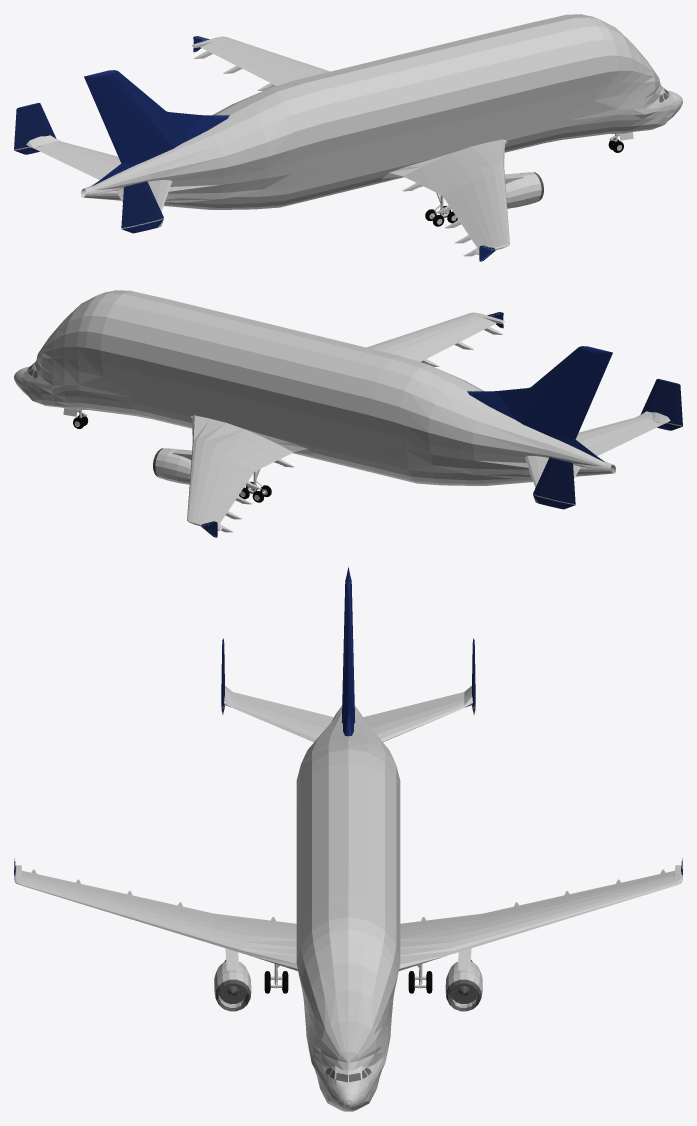
3 views of the same model, one above another, from view 1: azimuth 30°, elevation 25°; view 2: azimuth 150°, elevation 25°; view 3: azimuth 270°, elevation 25° (orthographic). The views are drawn at different scales.
Parts seen in each view (by area): view 1: mesh1_mesh1-geometry, mesh22_mesh22-geometry, mesh40_mesh40-geometry, mesh20_mesh20-geometry, mesh6_mesh6-geometry, mesh25_mesh25-geometry, mesh30_mesh30-geometry; view 2: mesh1_mesh1-geometry, mesh6_mesh6-geometry, mesh40_mesh40-geometry, mesh25_mesh25-geometry, mesh22_mesh22-geometry, mesh20_mesh20-geometry, mesh7_mesh7-geometry, mesh21_mesh21-geometry; view 3: mesh1_mesh1-geometry, mesh22_mesh22-geometry, mesh6_mesh6-geometry, mesh25_mesh25-geometry, mesh20_mesh20-geometry, mesh40_mesh40-geometry, mesh30_mesh30-geometry, mesh7_mesh7-geometry.
Boxes of the visible parts, x1,y1,x2,y2 form: mesh1_mesh1-geometry: [81, 14, 682, 209]; mesh22_mesh22-geometry: [381, 139, 509, 254]; mesh40_mesh40-geometry: [84, 70, 229, 185]; mesh20_mesh20-geometry: [14, 103, 121, 179]; mesh6_mesh6-geometry: [191, 36, 329, 85]; mesh25_mesh25-geometry: [116, 180, 171, 233]; mesh30_mesh30-geometry: [505, 172, 543, 208]; mesh1_mesh1-geometry: [14, 290, 615, 485]; mesh6_mesh6-geometry: [187, 415, 315, 530]; mesh40_mesh40-geometry: [467, 346, 612, 461]; mesh25_mesh25-geometry: [575, 379, 682, 455]; mesh22_mesh22-geometry: [367, 312, 505, 361]; mesh20_mesh20-geometry: [525, 456, 580, 509]; mesh7_mesh7-geometry: [153, 448, 191, 484]; mesh21_mesh21-geometry: [239, 469, 271, 502]; mesh1_mesh1-geometry: [296, 705, 400, 1111]; mesh22_mesh22-geometry: [14, 865, 297, 970]; mesh6_mesh6-geometry: [399, 865, 682, 970]; mesh25_mesh25-geometry: [221, 638, 333, 741]; mesh20_mesh20-geometry: [363, 638, 475, 741]; mesh40_mesh40-geometry: [341, 566, 355, 736]; mesh30_mesh30-geometry: [214, 960, 251, 1011]; mesh7_mesh7-geometry: [445, 960, 482, 1011].
Size of the model in its own units: 0.7548 by 0.2403 by 0.6103.
